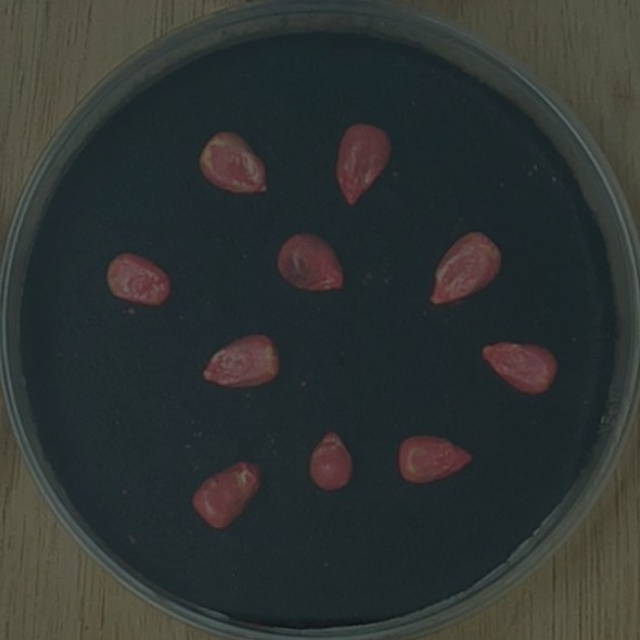Zea mays: (424, 223, 510, 313), (185, 453, 270, 535), (327, 118, 398, 213), (192, 124, 276, 204), (194, 326, 286, 396), (473, 333, 564, 403), (270, 225, 352, 299), (391, 428, 480, 493), (99, 245, 179, 313), (302, 424, 361, 498)
